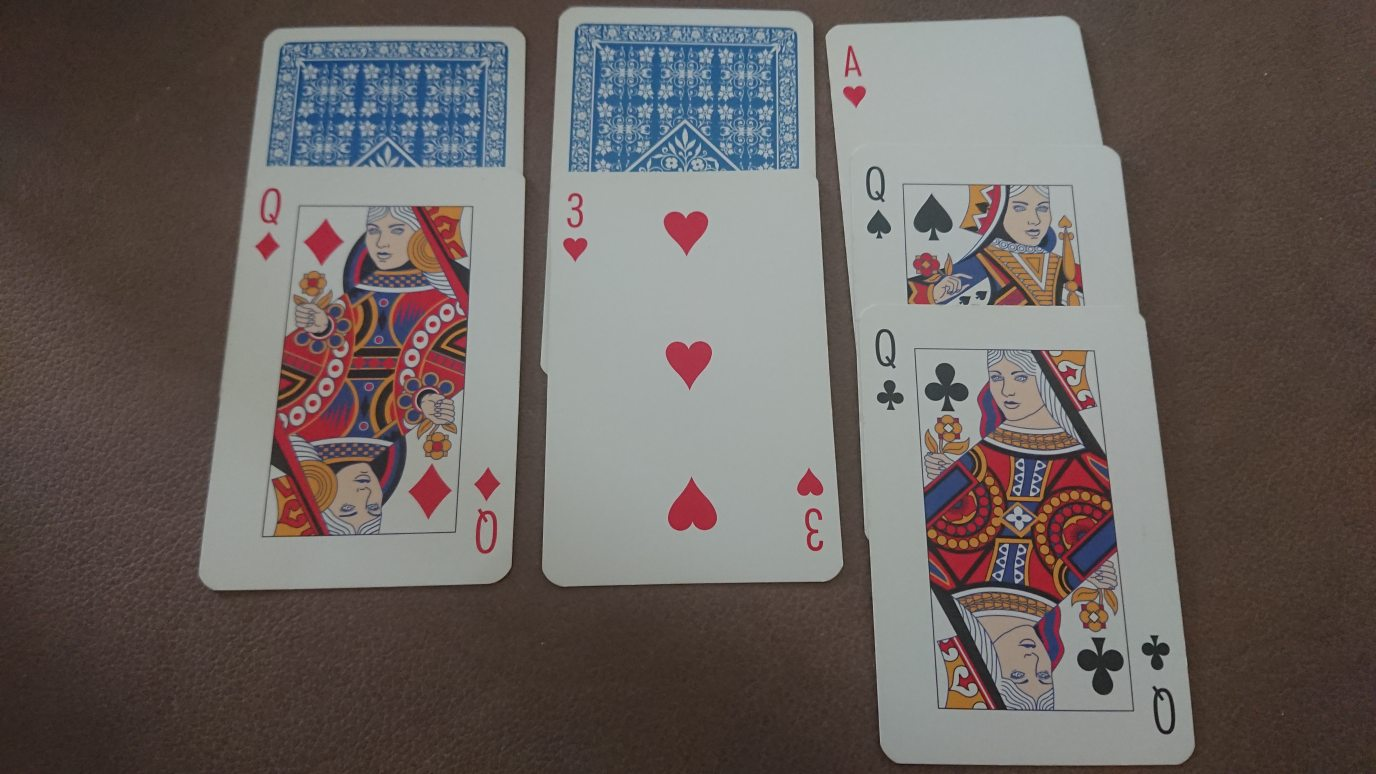3H: (561, 188, 590, 265)
AH: (840, 41, 870, 112)
BACK: (549, 3, 819, 171), (246, 22, 528, 169)
QC: (867, 325, 907, 415)
QD: (250, 185, 289, 267)
QS: (862, 162, 895, 241)
